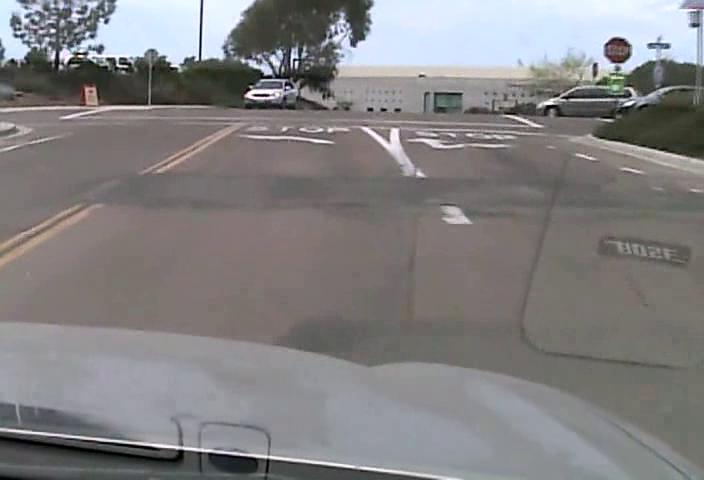stop: (603, 36, 632, 63)
